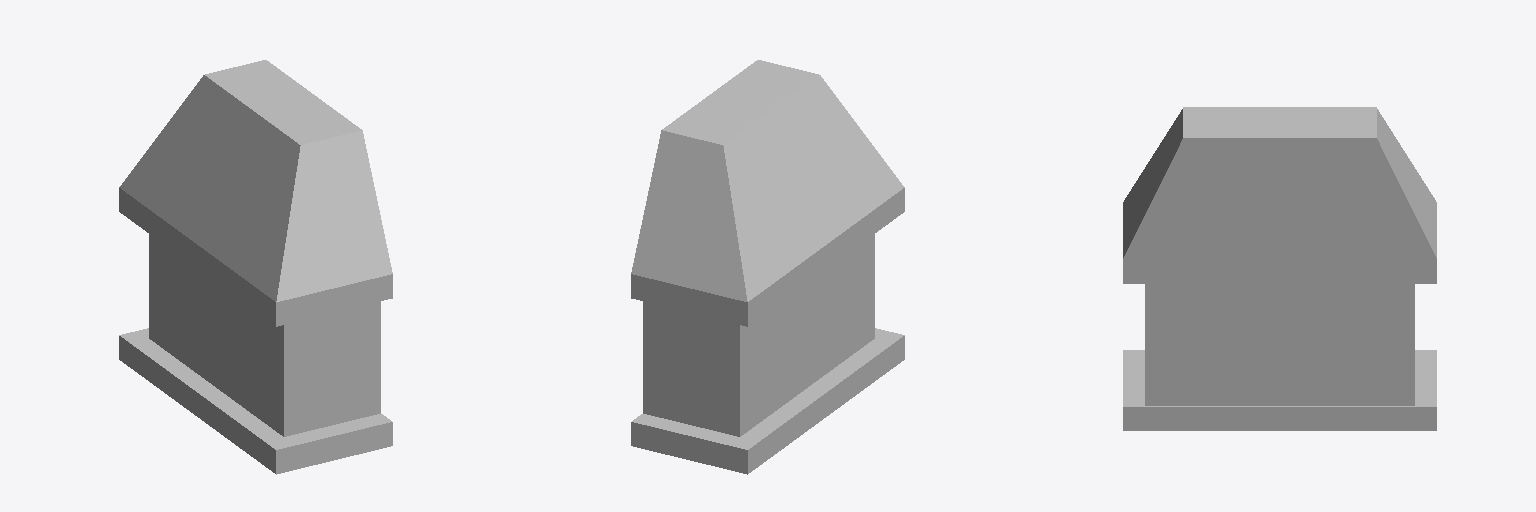
File: kamin.obj
3 renders of one model, left to right at view 1: azimuth 30°, elevation 25°; view 2: azimuth 150°, elevation 25°; view 3: azimuth 270°, elevation 25°, orthographic.
Visible parts, largest first — view 1: Box003, Box002, Box004; view 2: Box003, Box002, Box004; view 3: Box003, Box002, Box004.
Boxes of the visible parts, x1,y1,x2,y2 form: Box003: [119, 60, 392, 326]; Box002: [149, 234, 380, 436]; Box004: [119, 328, 392, 474]; Box003: [631, 60, 904, 326]; Box002: [643, 234, 874, 436]; Box004: [631, 328, 904, 474]; Box003: [1123, 107, 1436, 283]; Box002: [1145, 284, 1414, 405]; Box004: [1123, 350, 1436, 430].
Size of the model in its own units: 11.83 by 28.44 by 27.56.